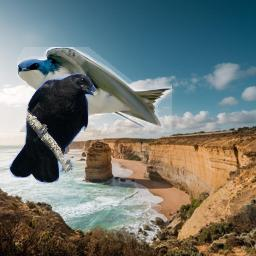Crow: (9, 73, 99, 184)
Swallow: (17, 47, 172, 132)
